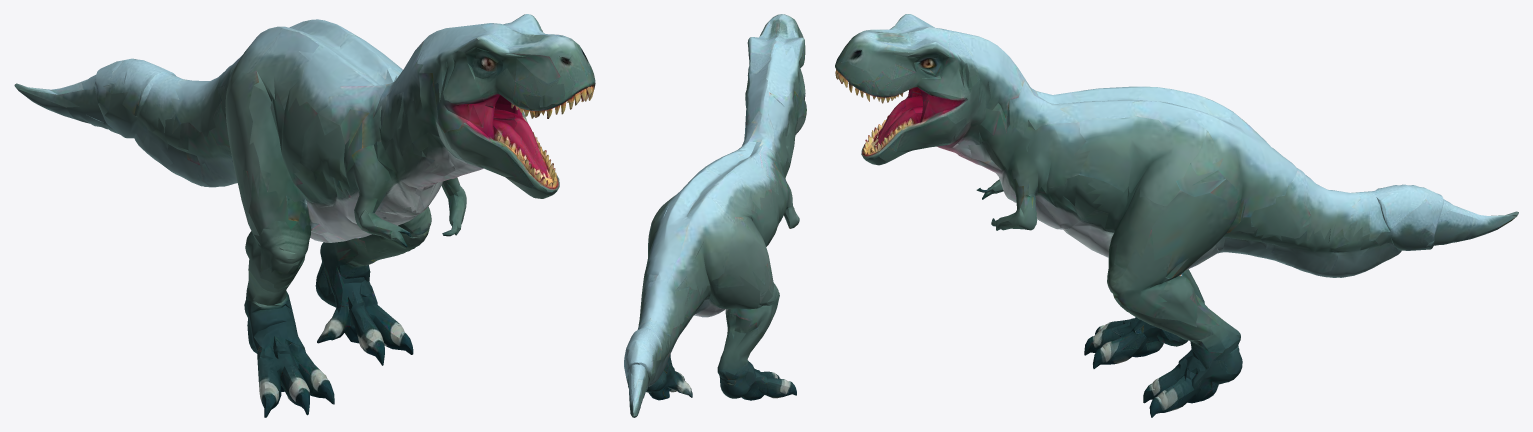
Rendered from trex.glb.
3 renders of one model, left to right at view 1: azimuth 30°, elevation 25°; view 2: azimuth 150°, elevation 25°; view 3: azimuth 270°, elevation 25°, orthographic. The views are drawn at different scales.
Size of the model in its own units: 0.5106 by 1.16 by 1.9.
Materials: 1 (1 with a texture image).
